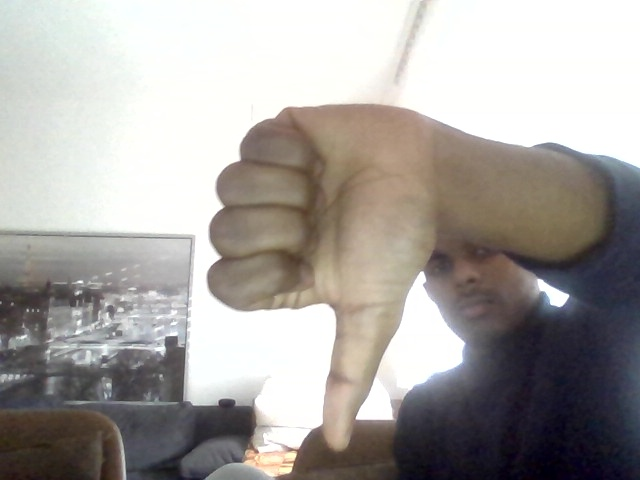td: (207, 92, 432, 451)
